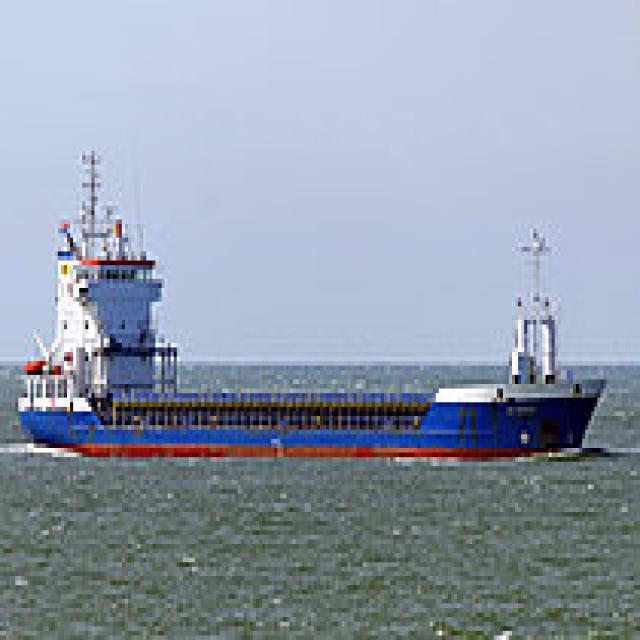Cargo: (6, 137, 607, 462)
